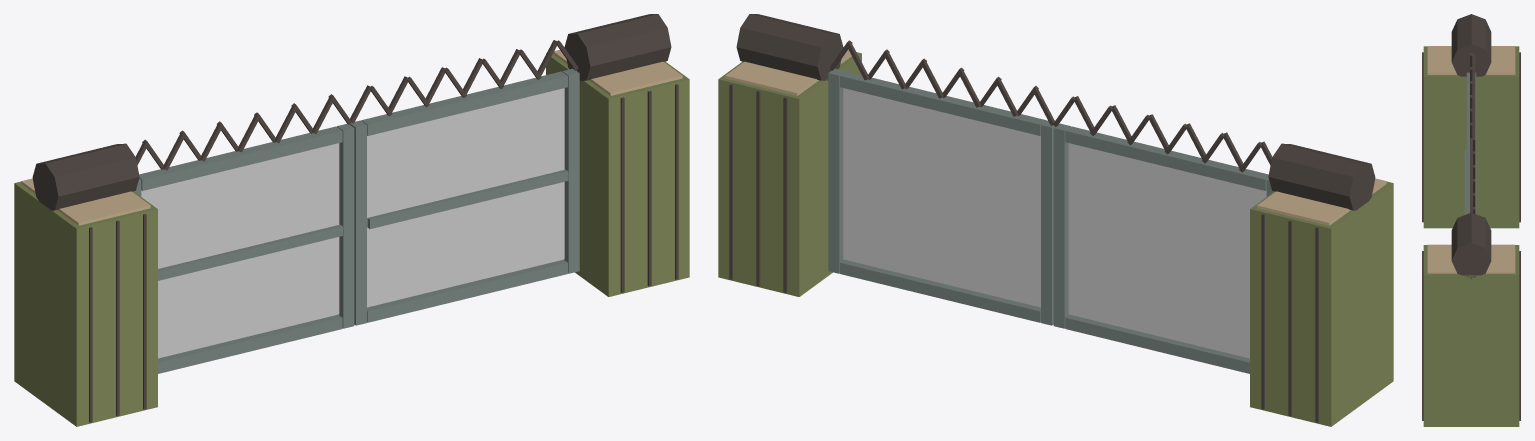
The model's file is SM_PuertaVia_v3_MallaEspino_e0_Sano_LOD0.fbx.
3 views of the same model, side by side, from view 1: azimuth 30°, elevation 25°; view 2: azimuth 150°, elevation 25°; view 3: azimuth 270°, elevation 25° (orthographic). The views are drawn at different scales.
Visible parts, largest first — view 1: SM_bloques.puerta_via_v12_LOD0, Hoja_E, Hoja_O; view 2: SM_bloques.puerta_via_v12_LOD0, Hoja_E, Hoja_O; view 3: SM_bloques.puerta_via_v12_LOD0, Hoja_O, Hoja_E.
Part boxes in pixels (box(x1,y1,x2,y2)): SM_bloques.puerta_via_v12_LOD0: box(14, 14, 689, 426); Hoja_E: box(349, 40, 579, 325); Hoja_O: box(134, 94, 354, 373); SM_bloques.puerta_via_v12_LOD0: box(718, 14, 1393, 426); Hoja_E: box(828, 40, 1054, 325); Hoja_O: box(1053, 96, 1273, 373); SM_bloques.puerta_via_v12_LOD0: box(1422, 14, 1520, 426); Hoja_O: box(1464, 53, 1476, 214); Hoja_E: box(1466, 137, 1476, 213).
Bounding box in the file's own units: 6.8 × 2.55 × 1.24.
